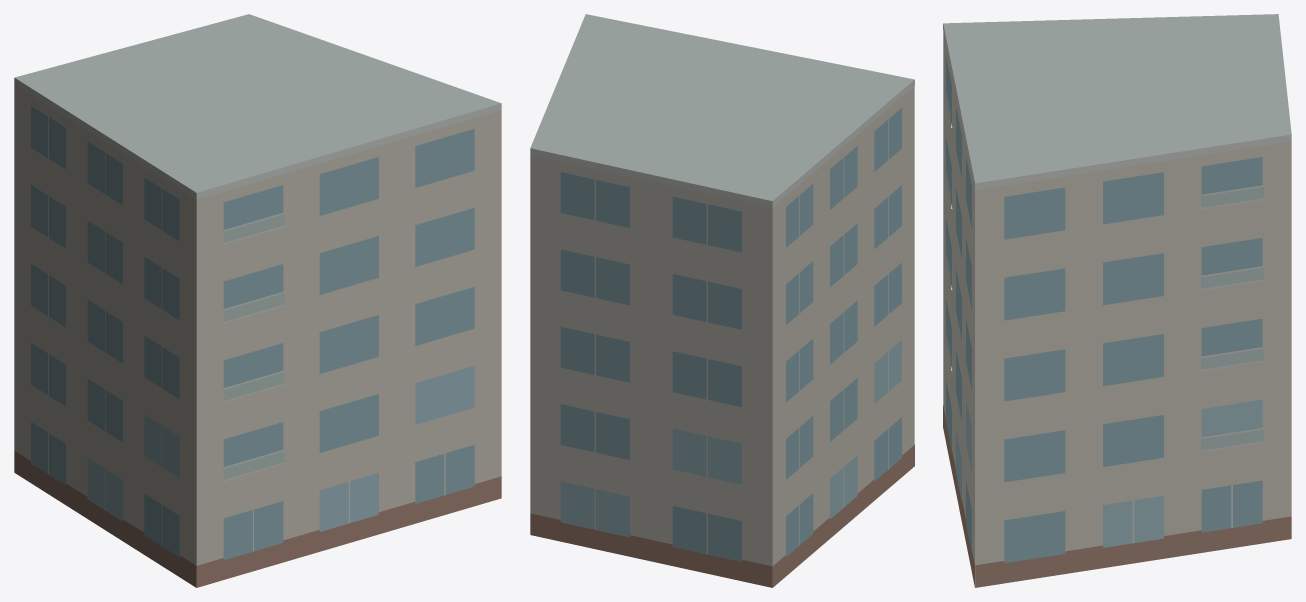
The model's file is survey-upis-32748168.glb.
3 views of the same model, side by side, from view 1: azimuth 30°, elevation 25°; view 2: azimuth 150°, elevation 25°; view 3: azimuth 270°, elevation 25° (orthographic). The views are drawn at different scales.
Visible parts, largest first — view 1: survey-upis-32748168.tmp; view 2: survey-upis-32748168.tmp; view 3: survey-upis-32748168.tmp.
Part boxes in pixels (bbox=[...]): survey-upis-32748168.tmp: bbox=[14, 14, 501, 587]; survey-upis-32748168.tmp: bbox=[530, 14, 914, 587]; survey-upis-32748168.tmp: bbox=[943, 14, 1291, 587].
Bounding box in the file's own units: 12.77 × 14.2 × 11.1.
